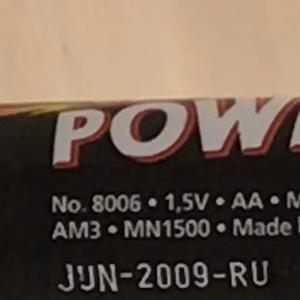keyword: (157, 184, 218, 219)
